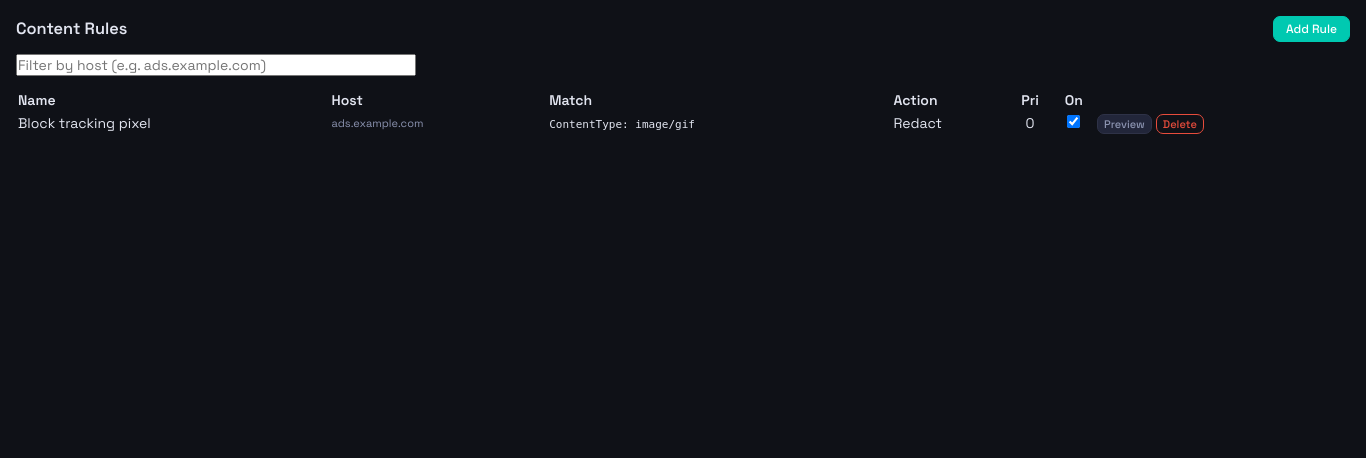
Test case: ContentRulesPanel › opens add-rule form on click
Click the button "Add Rule": (1311, 29) [1273, 16, 1350, 42]
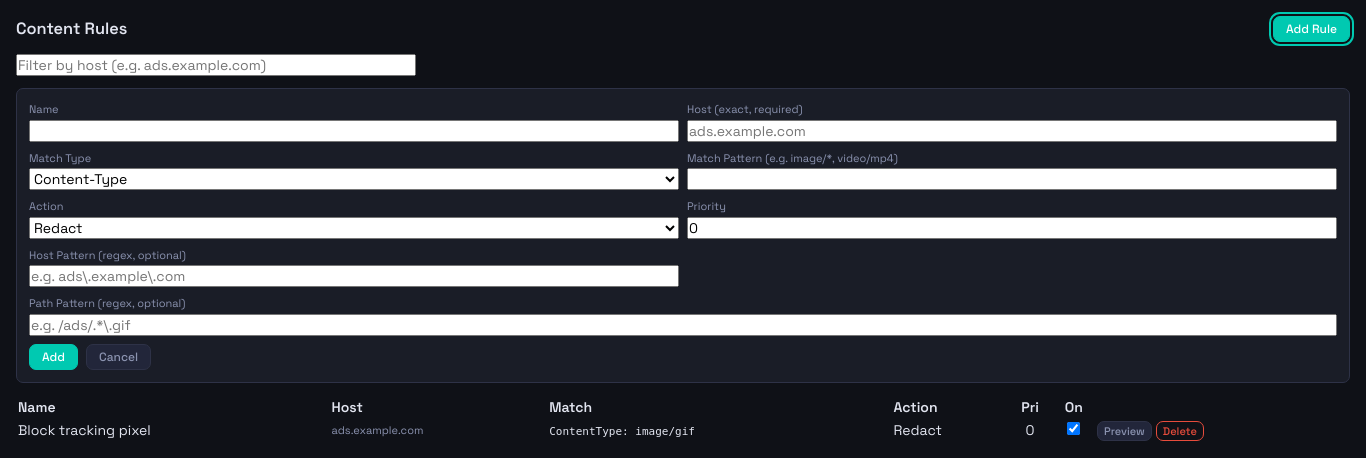
Now the button "Add" is shown, box [29, 344, 78, 370]
